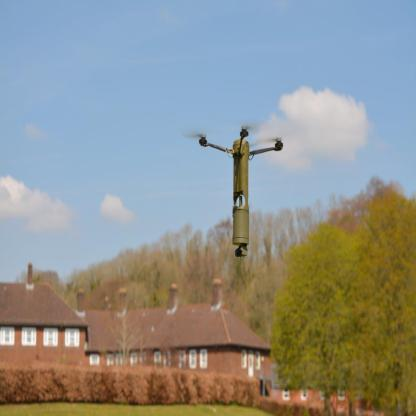UAS: (180, 117, 284, 258)
